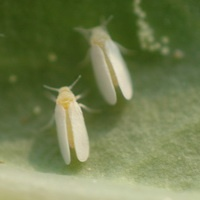insect: (75, 25, 132, 104), (44, 75, 88, 164)
